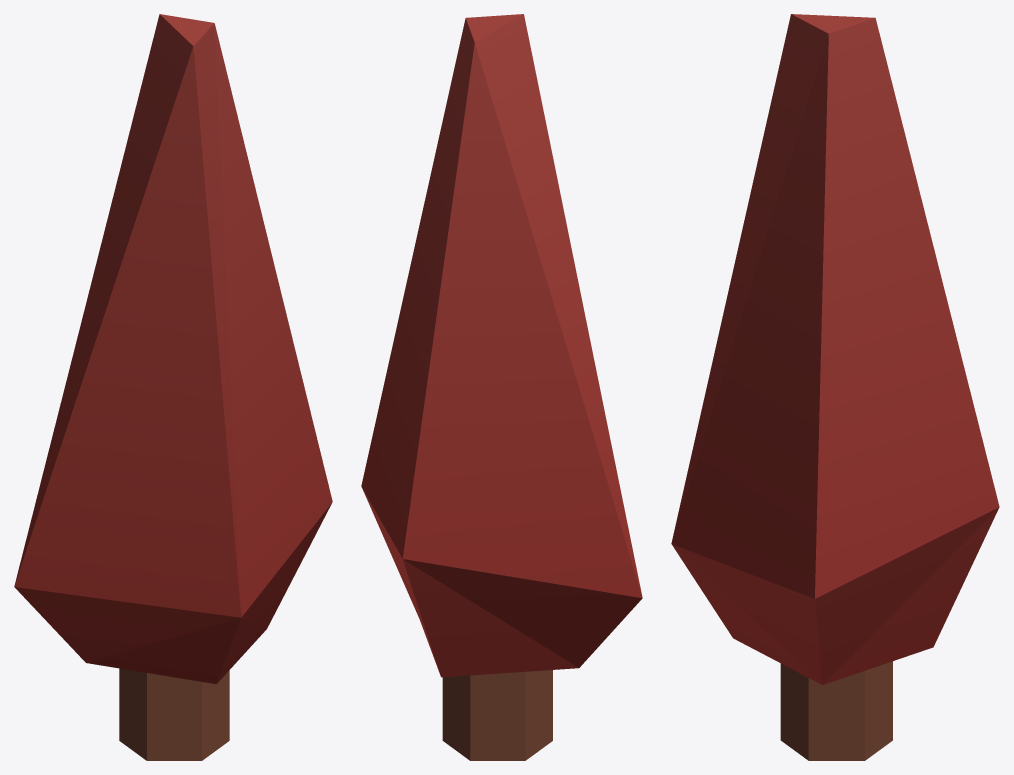
The model's file is Bush_10_gradient_red_vc.fbx.
3 views of the same model, side by side, from view 1: azimuth 30°, elevation 25°; view 2: azimuth 150°, elevation 25°; view 3: azimuth 270°, elevation 25° (orthographic).
Visible parts, largest first — view 1: Bush_10_gradient_red_vc; view 2: Bush_10_gradient_red_vc; view 3: Bush_10_gradient_red_vc.
Part boxes in pixels (x1,y1,x2,y2): Bush_10_gradient_red_vc: (14,14,332,760); Bush_10_gradient_red_vc: (361,14,642,760); Bush_10_gradient_red_vc: (671,14,999,760).
Bounding box in the file's own units: 38.13 × 86.43 × 35.48.
